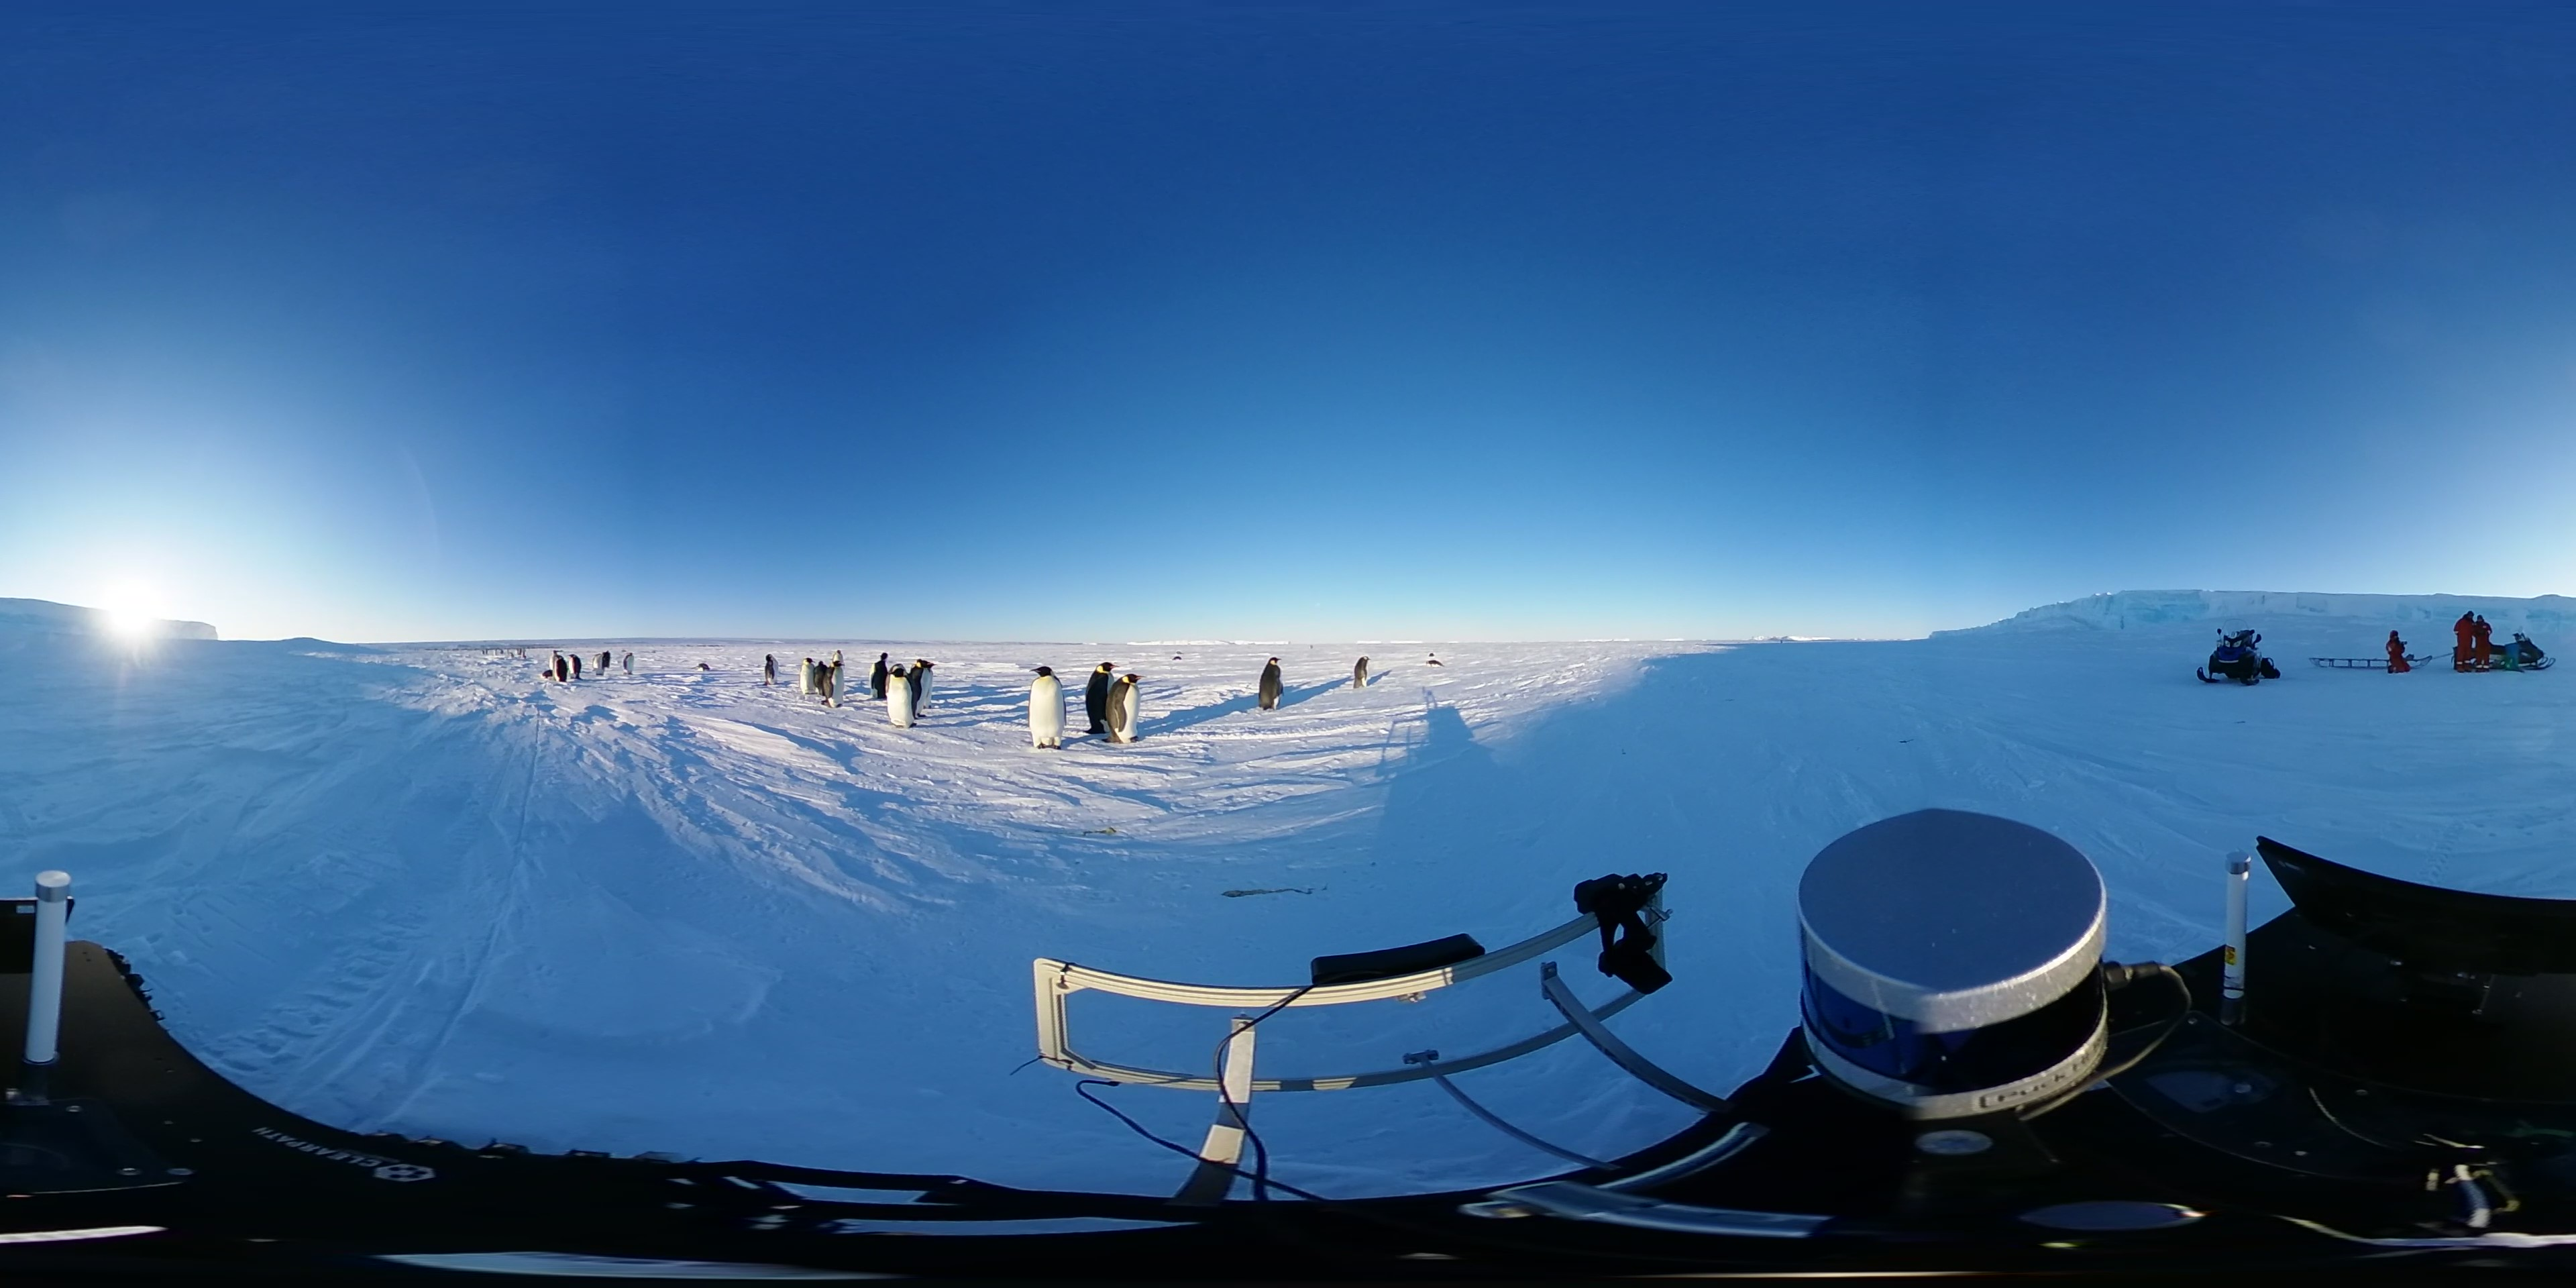adult_standing_penguin: (1020, 662, 1073, 752), (1109, 672, 1145, 749), (1083, 659, 1117, 736), (885, 665, 922, 734), (1257, 652, 1286, 713), (821, 655, 849, 711), (797, 652, 816, 698), (1350, 654, 1372, 695), (759, 654, 782, 685)
researcher: (2451, 609, 2476, 674), (2471, 613, 2492, 677), (2384, 629, 2410, 678)
